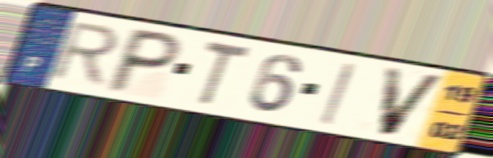6: (249, 53, 303, 115)
I: (317, 60, 359, 128)
P: (101, 25, 187, 95)
R: (45, 20, 125, 89)
T: (198, 37, 254, 110)
V: (377, 64, 450, 139)
